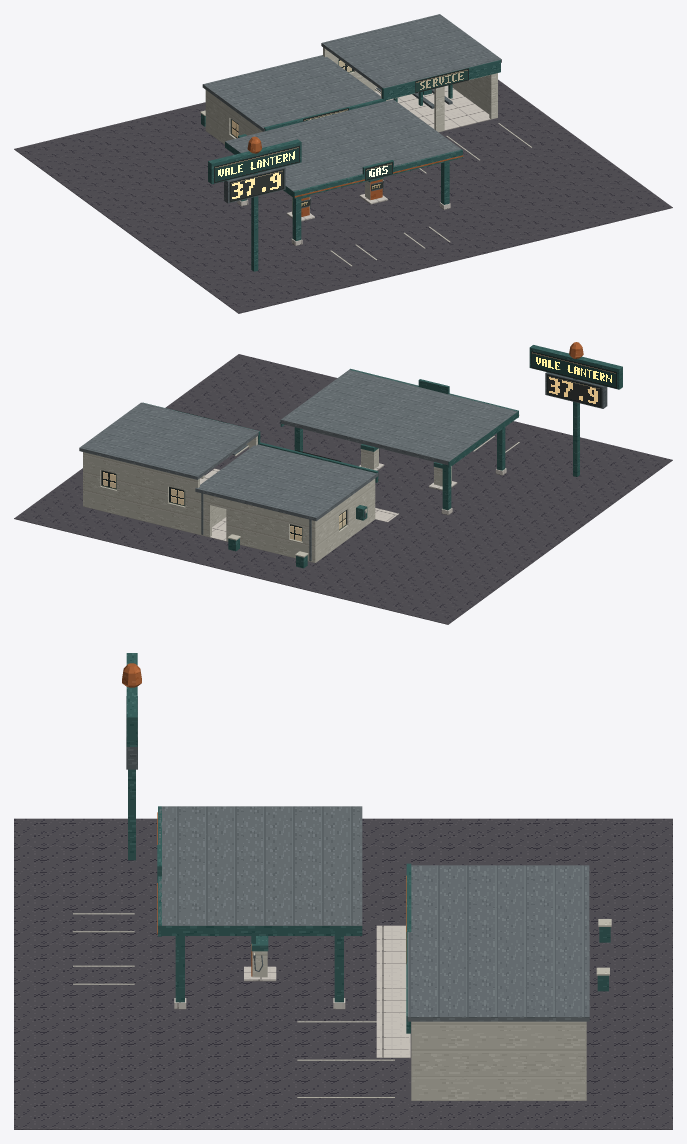
Rendered from vale-lantern-1945.glb.
The picture shows the model from 3 angles, top to bottom: view 1: azimuth 30°, elevation 25°; view 2: azimuth 150°, elevation 25°; view 3: azimuth 270°, elevation 25°; orthographic projection. The views are drawn at different scales.
Parts seen in each view (by area): view 1: lot, shell, fuel_canopy, roadside_sign, interior, sign_name_street, price_face_street, pump_2; view 2: lot, shell, fuel_canopy, roadside_sign, sign_name_exit, price_face_exit, interior, pump_2; view 3: lot, shell, fuel_canopy, roadside_sign, pump_2.
Boxes of the visible parts, x1,y1,x2,y2 form: lot: (14,79,672,313); shell: (202,14,501,144); fuel_canopy: (225,99,463,245); roadside_sign: (208,136,301,271); interior: (206,85,496,144); sign_name_street: (214,145,299,183); price_face_street: (229,169,284,202); pump_2: (359,177,387,204); lot: (14,354,672,624); shell: (79,402,378,562); fuel_canopy: (280,368,519,515); roadside_sign: (529,342,622,476); sign_name_exit: (531,351,616,388); price_face_exit: (547,374,601,407); interior: (83,477,372,563); pump_2: (359,444,384,470); lot: (14,818,672,1129); shell: (406,863,589,1100); fuel_canopy: (157,806,362,1009); roadside_sign: (122,653,141,860); pump_2: (244,936,276,981).
Size of what is drawn, in the model's own units: 31.45 by 9.19 by 28.2.
11 materials, 11 textured.
